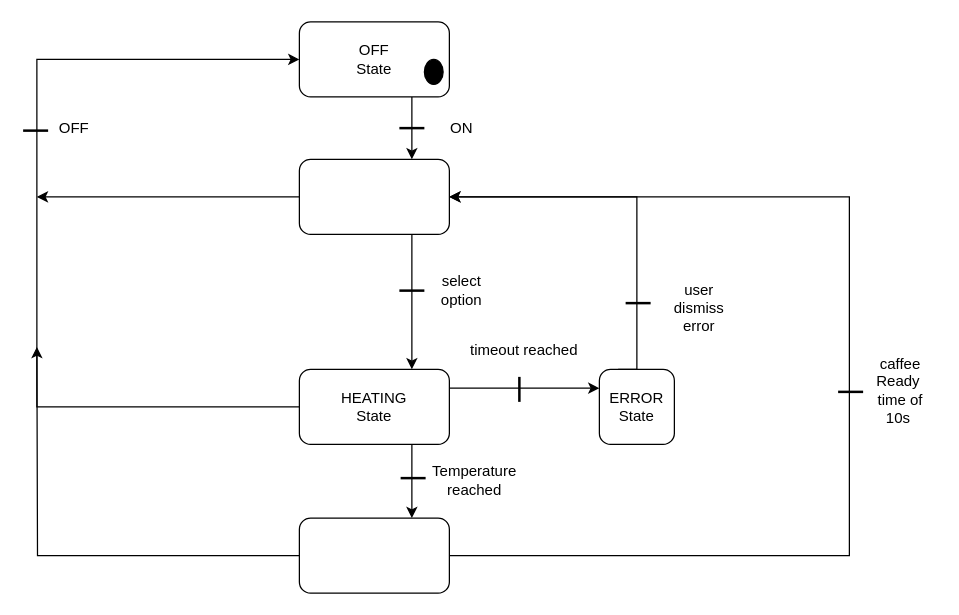
Image size: 959x615. Some labels were removed from this diagram. Each missing label, with the centre of its shape:
IDLE State: (373,196)
READY State: (373,555)
